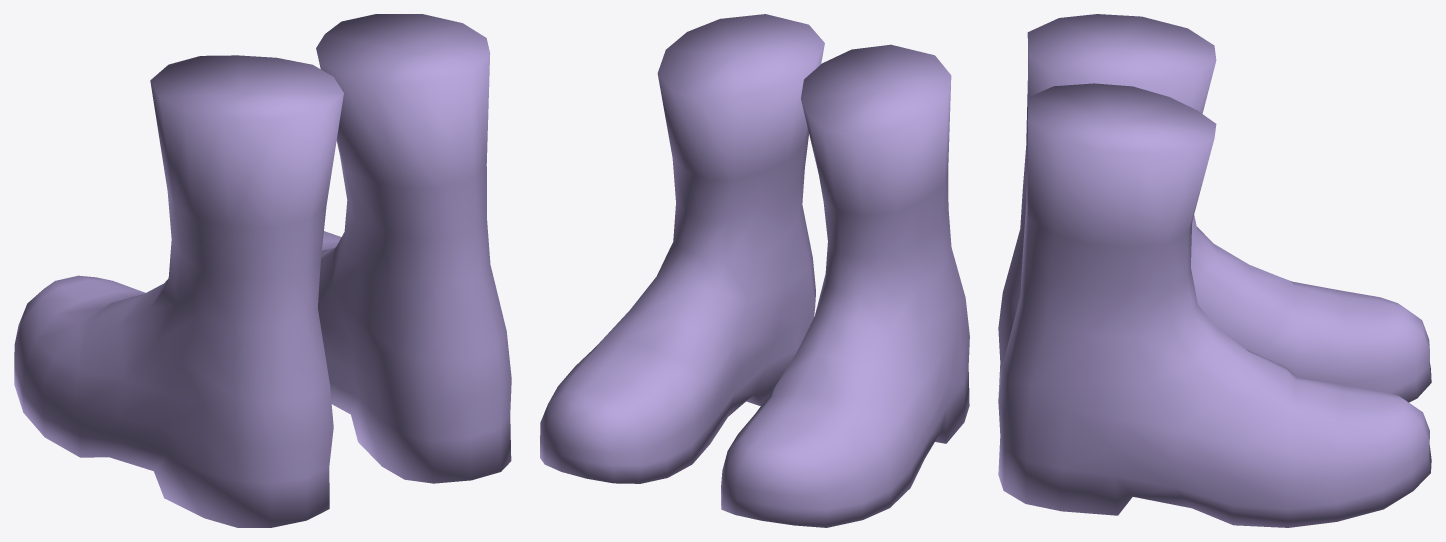
Rendered from Boots.fbx.
The picture shows the model from 3 angles, left to right: view 1: azimuth 30°, elevation 25°; view 2: azimuth 150°, elevation 25°; view 3: azimuth 270°, elevation 25°; orthographic projection. The views are drawn at different scales.
Visible parts, largest first — view 1: Stalker4.002; view 2: Stalker4.002; view 3: Stalker4.002.
Part boxes in pixels (<box>): Stalker4.002: <box>14,14,511,527</box>; Stalker4.002: <box>540,14,969,527</box>; Stalker4.002: <box>998,14,1431,527</box>.
Size of the model in its own units: 29.24 by 29.56 by 31.57.
